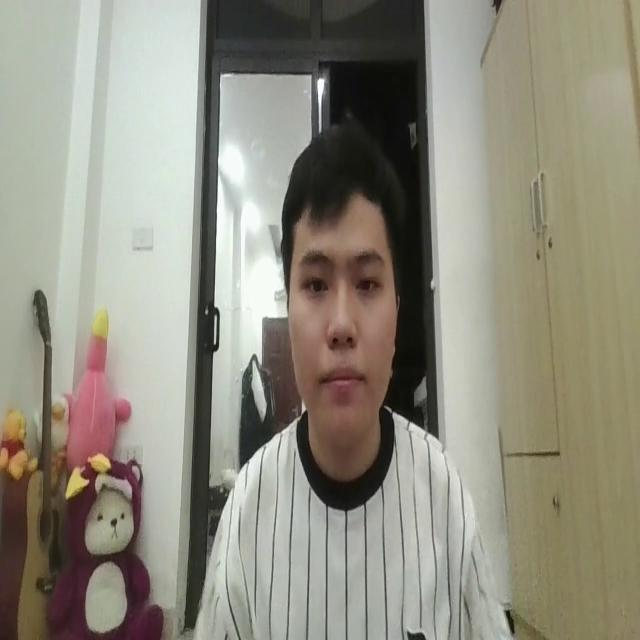student: (175, 124, 511, 640)
